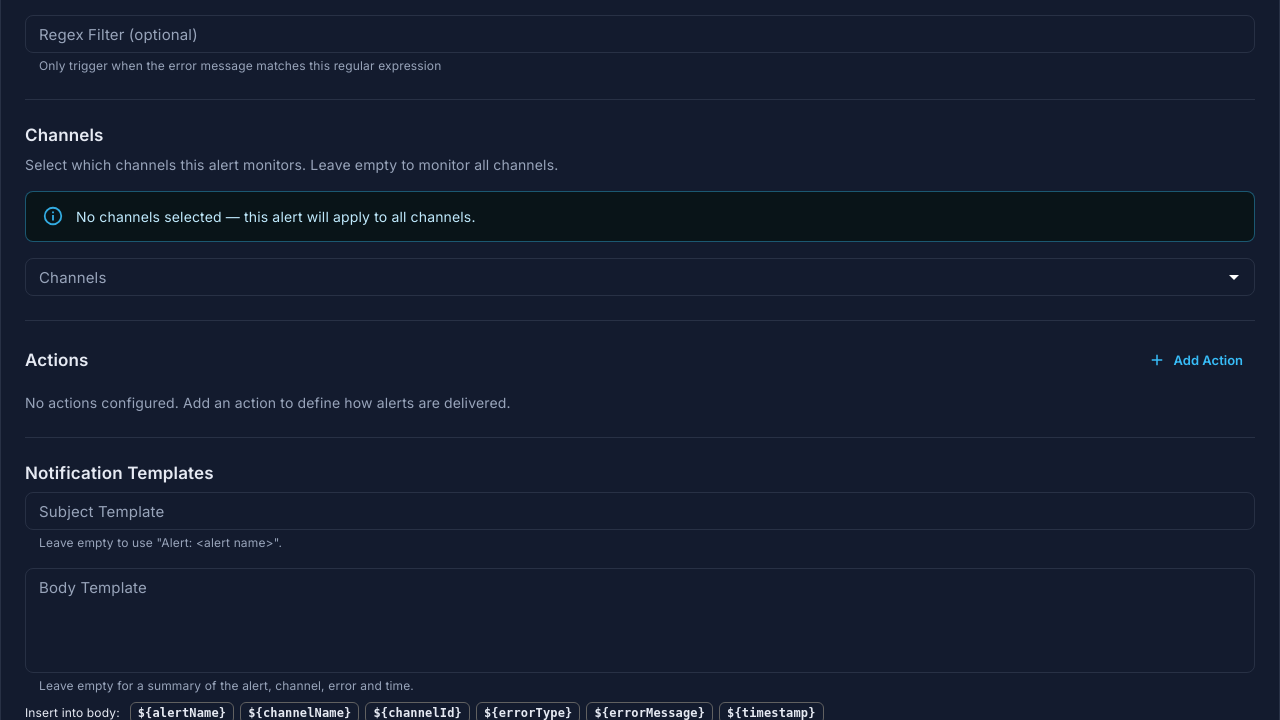
Test: AlertEditorPage (create mode) › adds an action row when Add Action is clicked
(page scrolled)
Expected: the text "No actions configured" is shown, [25,394,511,411]
Click the button "Add Action" at (1196, 360), box [1138,345,1255,376]
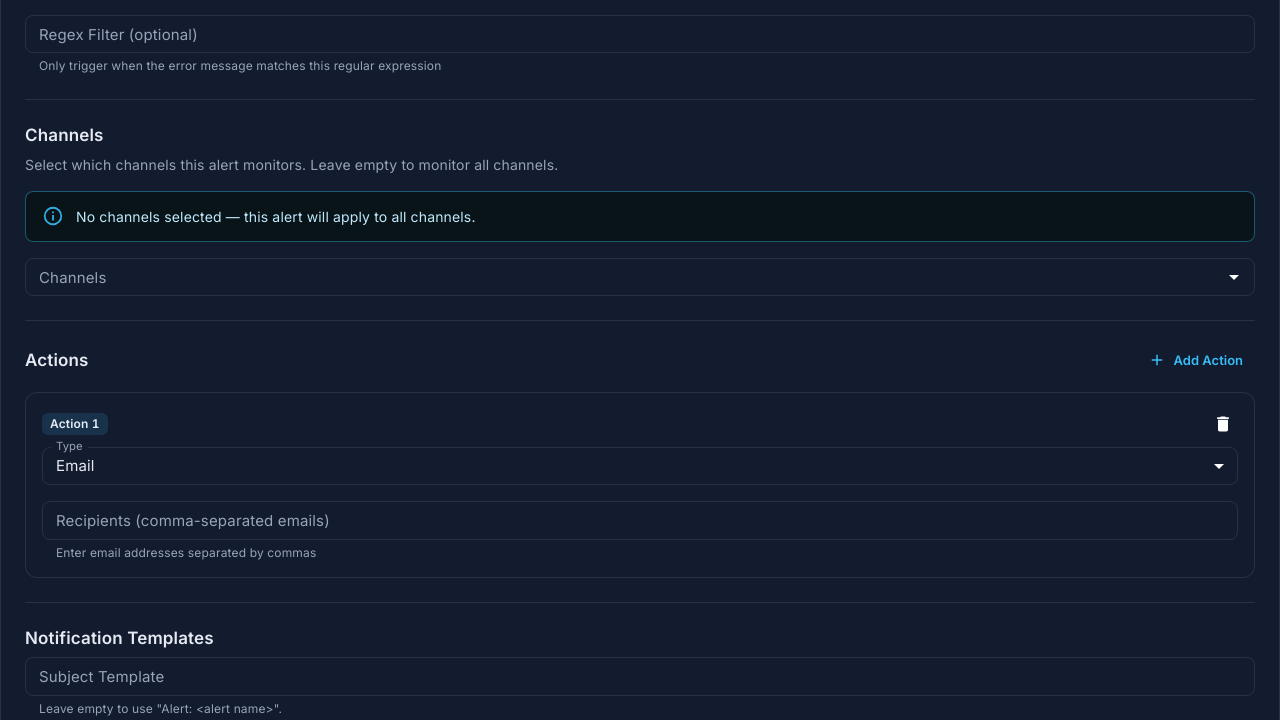
Expected: the text "Action 1" is shown, [50,416,100,431]
Expected: the dropdown "Email" is shown, [56,456,95,475]
